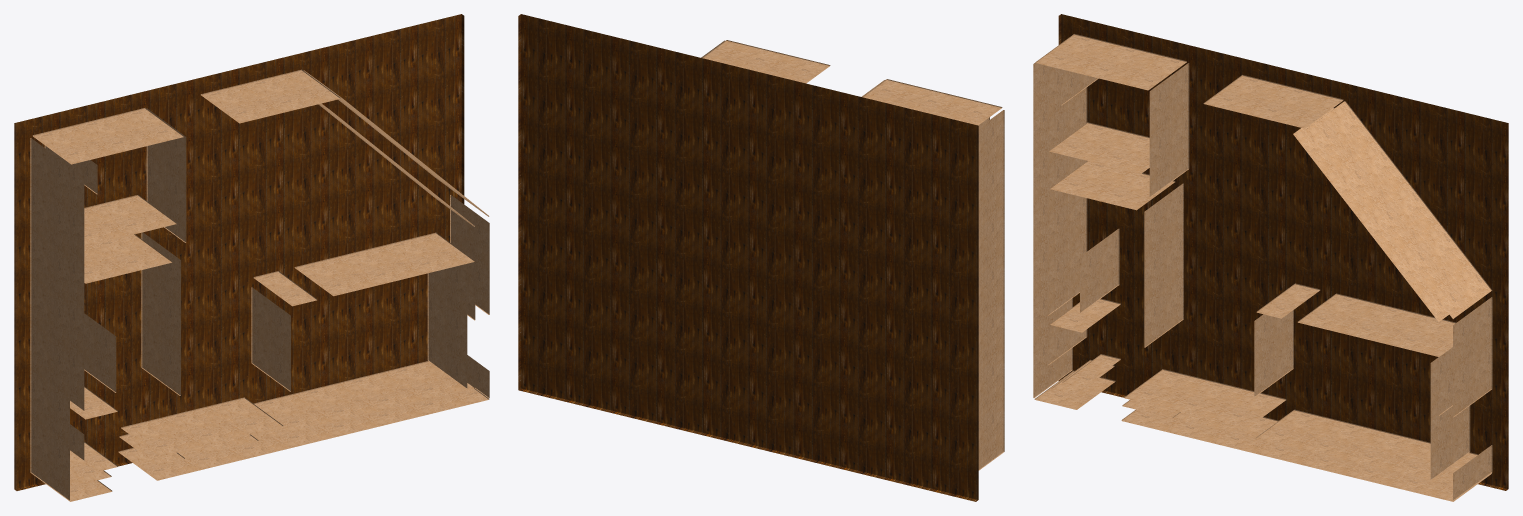
3 renders of one model, left to right at view 1: azimuth 30°, elevation 25°; view 2: azimuth 150°, elevation 25°; view 3: azimuth 330°, elevation 25°, orthographic. The views are drawn at different scales.
Parts seen in each view (by area): view 1: Floor, Wall_16, Wall_6, Wall_2, Wall_12, Wall_19, Wall_8, Wall_9, Wall_20, Wall_10, Wall_17, Wall_23 (+13 smaller); view 2: Floor, Wall_16, Wall_9, Wall_10; view 3: Floor, Wall_29, Wall_17, Wall_6, Wall_2, Wall_16, Wall_19, Wall_12, Wall_8, Wall_9, Wall_23, Wall_10 (+15 smaller).
Boxes of the visible parts, bbox=[...] form: Floor: bbox=[14, 14, 464, 490]; Wall_16: bbox=[30, 138, 69, 500]; Wall_6: bbox=[253, 361, 474, 432]; Wall_2: bbox=[118, 388, 489, 480]; Wall_12: bbox=[294, 232, 474, 296]; Wall_19: bbox=[141, 232, 180, 395]; Wall_8: bbox=[121, 397, 283, 456]; Wall_9: bbox=[32, 108, 183, 164]; Wall_20: bbox=[427, 266, 467, 388]; Wall_10: bbox=[200, 69, 340, 123]; Wall_17: bbox=[44, 145, 84, 410]; Wall_23: bbox=[146, 108, 186, 242]; Floor: bbox=[518, 14, 978, 501]; Wall_16: bbox=[978, 110, 1004, 470]; Wall_9: bbox=[862, 79, 1002, 125]; Wall_10: bbox=[702, 40, 830, 83]; Floor: bbox=[1058, 14, 1508, 490]; Wall_29: bbox=[1306, 101, 1492, 318]; Wall_17: bbox=[1047, 68, 1087, 315]; Wall_6: bbox=[1255, 409, 1477, 483]; Wall_2: bbox=[1121, 406, 1491, 501]; Wall_16: bbox=[1033, 62, 1072, 398]; Wall_19: bbox=[1144, 183, 1183, 347]; Wall_12: bbox=[1297, 293, 1455, 356]; Wall_8: bbox=[1124, 369, 1286, 428]; Wall_9: bbox=[1035, 34, 1186, 90]; Wall_23: bbox=[1149, 63, 1189, 197]; Wall_10: bbox=[1203, 75, 1343, 128].
Size of the model in its own units: 10 by 7.82 by 1.6.
2 materials, 2 textured.
